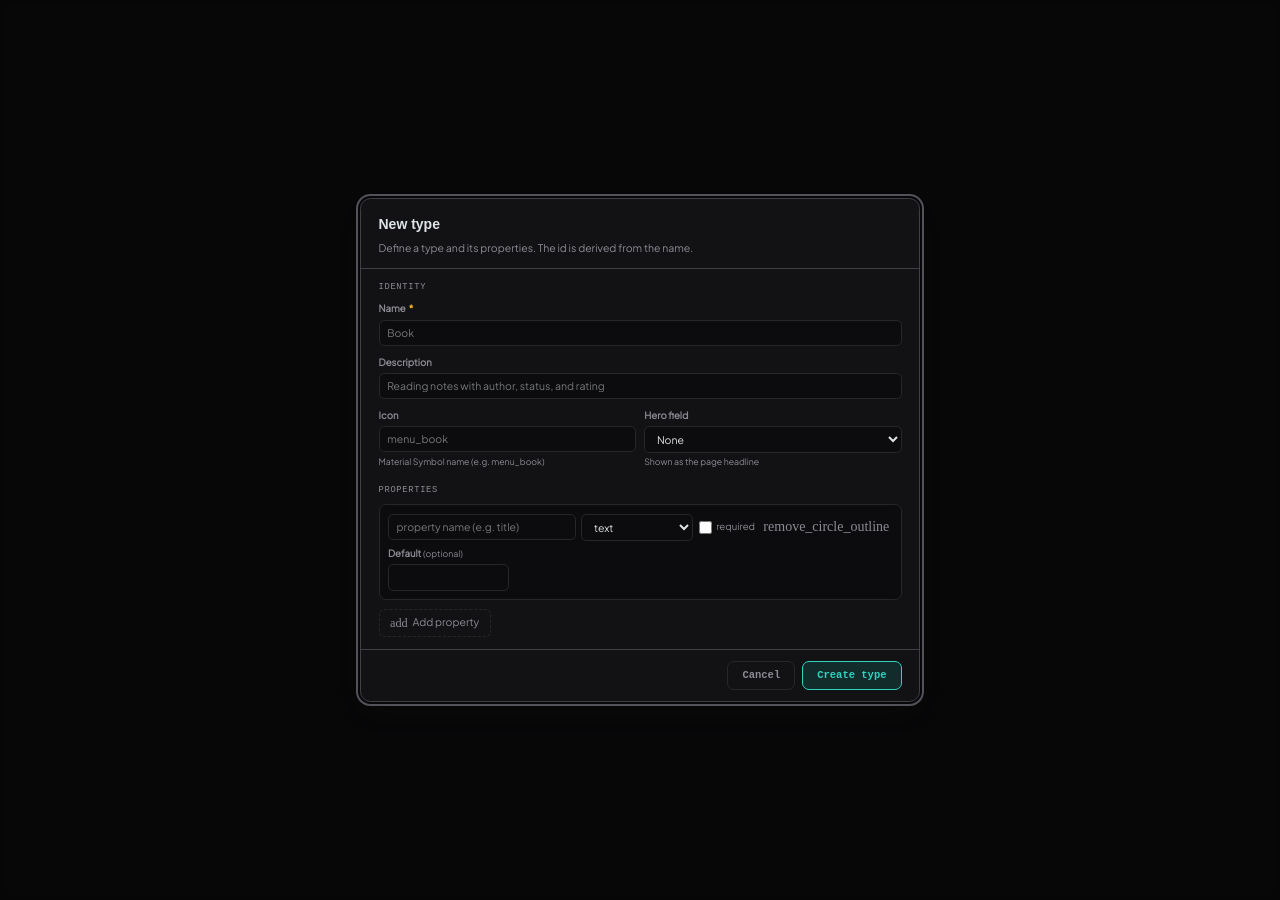
Test: TypeEditorDialog — property row editor › shows the options input for multiselect but NOT marked required
The width and height of the screenshot is (1280, 900).
Select "multiselect" in the dropdown named "Property 1 type" at (637,527), box [581,514,693,540]
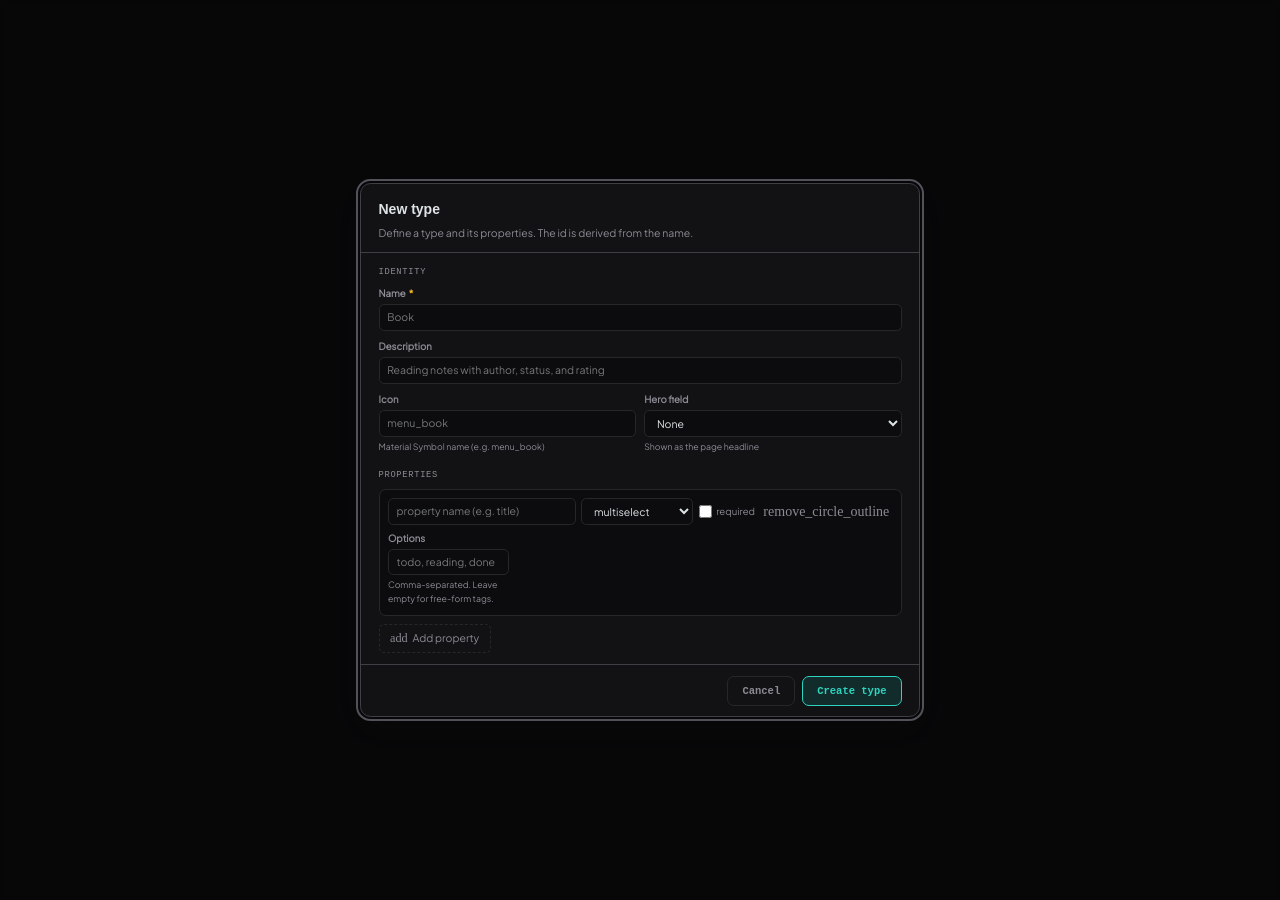
Check: the field with id "te-opts-1" is shown, box [388,549,509,575]
